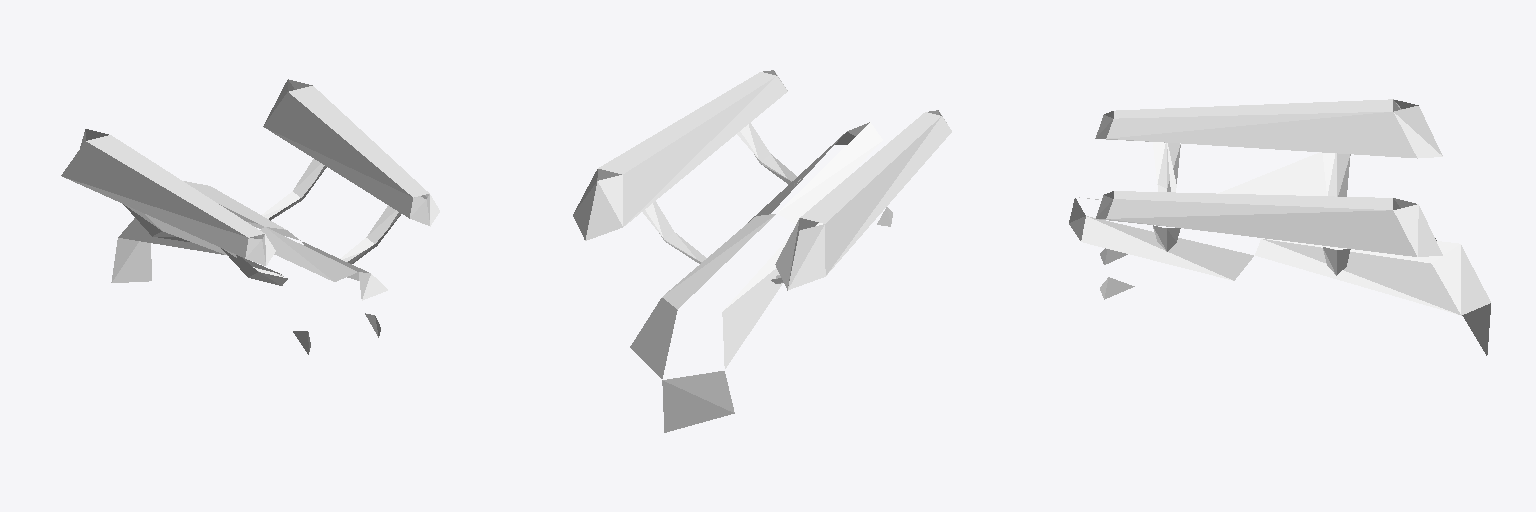
The model's file is ZBOAT.obj.
3 views of the same model, side by side, from view 1: azimuth 30°, elevation 25°; view 2: azimuth 150°, elevation 25°; view 3: azimuth 270°, elevation 25° (orthographic).
Visible parts, largest first — view 1: ZBOAT_node01_face02, ZBOAT_node00_face00, ZBOAT_node01_face00; view 2: ZBOAT_node01_face02, ZBOAT_node00_face00; view 3: ZBOAT_node01_face02, ZBOAT_node00_face00, ZBOAT_node01_face00.
Part boxes in pixels (x1,y1,x2,y2): ZBOAT_node01_face02: (61, 79, 439, 337); ZBOAT_node00_face00: (123, 159, 400, 354); ZBOAT_node01_face00: (145, 214, 283, 285); ZBOAT_node01_face02: (573, 70, 951, 432); ZBOAT_node00_face00: (643, 123, 892, 283); ZBOAT_node01_face02: (1069, 99, 1490, 355); ZBOAT_node00_face00: (1100, 142, 1350, 275); ZBOAT_node01_face00: (1167, 143, 1326, 195).
Size of the model in its own units: 720 by 551 by 1043.